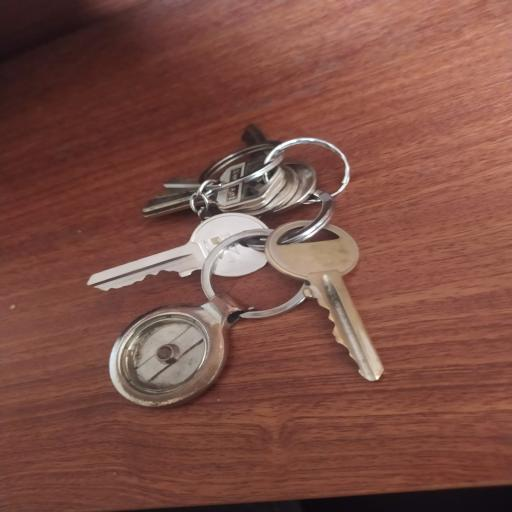Llaves: (80, 115, 396, 416)
